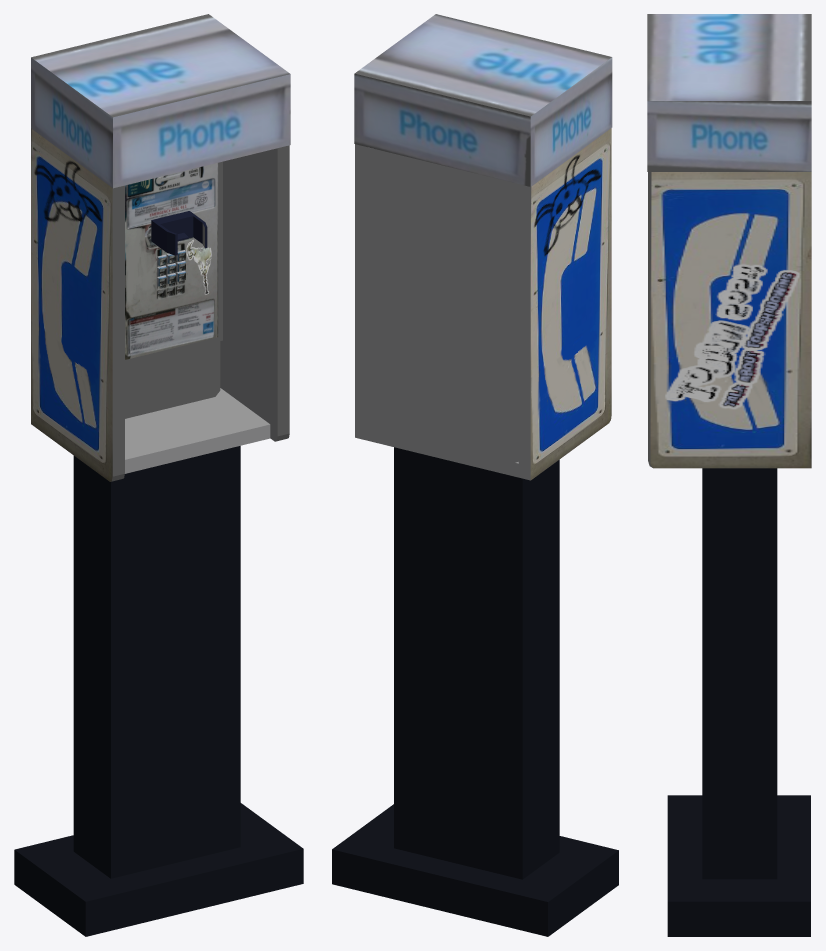
The model's file is phonebooth01_textured.fbx.
3 renders of one model, left to right at view 1: azimuth 30°, elevation 25°; view 2: azimuth 150°, elevation 25°; view 3: azimuth 270°, elevation 25°, orthographic.
Visible parts, largest first — view 1: PR_Phonebooth_01; view 2: PR_Phonebooth_01; view 3: PR_Phonebooth_01.
Boxes of the visible parts, left/top/right/bottom form: PR_Phonebooth_01: left=14, top=14, right=303, bottom=936; PR_Phonebooth_01: left=332, top=14, right=618, bottom=936; PR_Phonebooth_01: left=647, top=14, right=811, bottom=936.
Bounding box in the file's own units: 4898 × 17681 × 3195.
